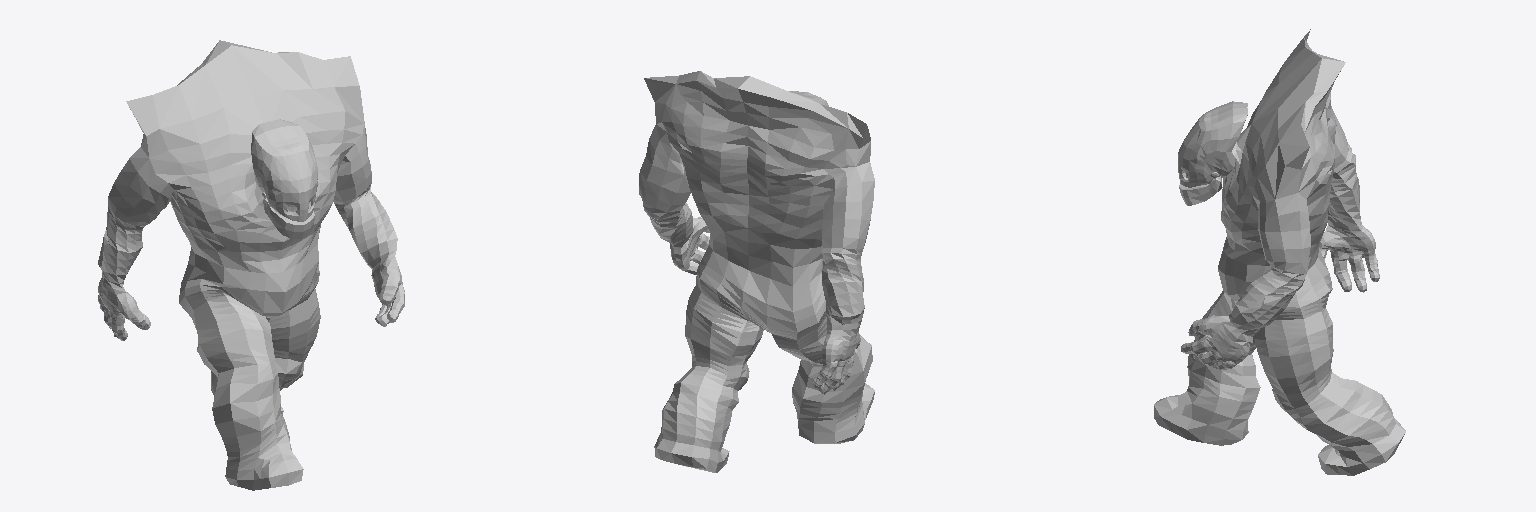
The model's file is golem_clean.obj.
The picture shows the model from 3 angles: view 1: azimuth 30°, elevation 25°; view 2: azimuth 150°, elevation 25°; view 3: azimuth 270°, elevation 25°; orthographic projection.
Parts seen in each view (by area): view 1: golem; view 2: golem; view 3: golem.
Boxes of the visible parts, <box> form: golem: <box>98,40,404,490</box>; golem: <box>639,71,874,472</box>; golem: <box>1154,29,1405,475</box>.
Bounding box in the file's own units: 1.23 × 1.84 × 1.07.